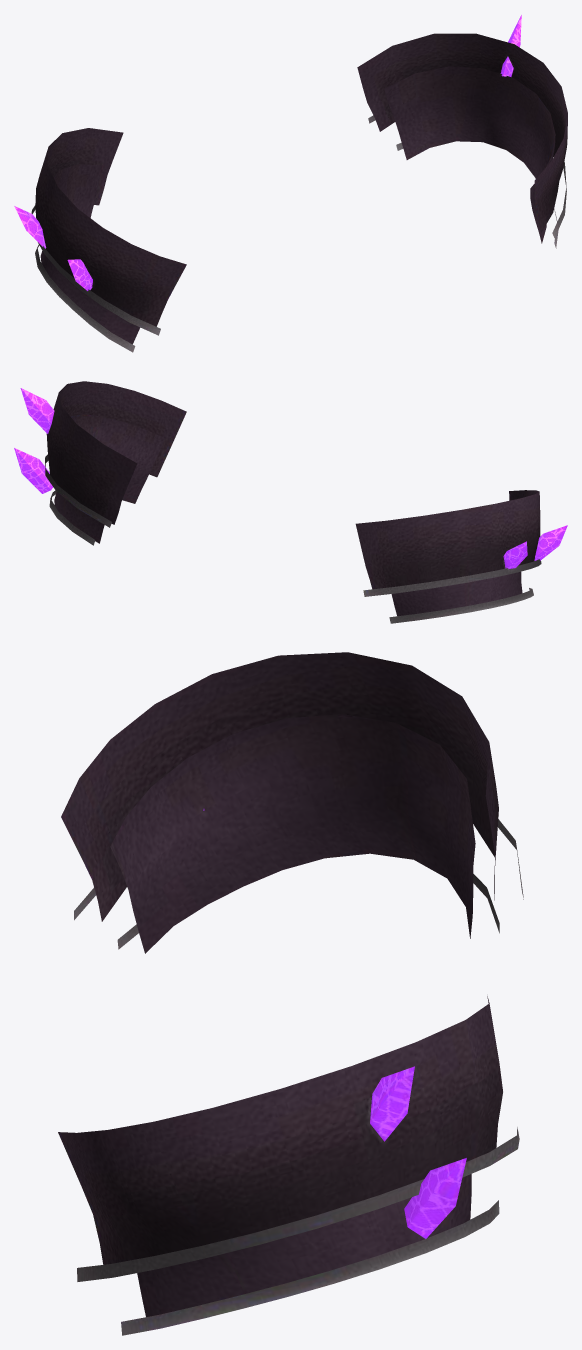
Rendered from Ombreiras_Leves_nivel50.glb.
The picture shows the model from 3 angles, top to bottom: view 1: azimuth 30°, elevation 25°; view 2: azimuth 150°, elevation 25°; view 3: azimuth 270°, elevation 25°; orthographic projection. The views are drawn at different scales.
Parts seen in each view (by area): view 1: ombreiras_leves_nivel50; view 2: ombreiras_leves_nivel50; view 3: ombreiras_leves_nivel50.
Part boxes in pixels (bbox=[...]): ombreiras_leves_nivel50: bbox=[14, 15, 567, 352]; ombreiras_leves_nivel50: bbox=[14, 381, 567, 623]; ombreiras_leves_nivel50: bbox=[58, 652, 523, 1335].
Size of the model in its own units: 0.5965 by 0.1803 by 0.2461.
Materials: 1 (1 with a texture image).
